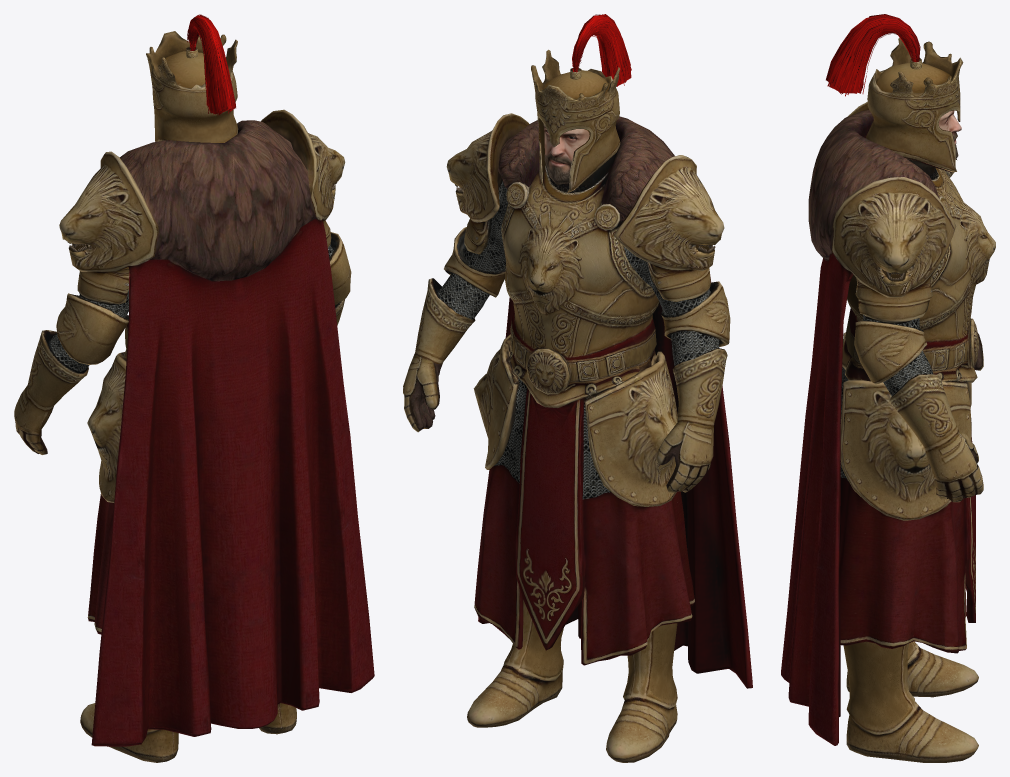
Rendered from king.fbx.
3 views of the same model, side by side, from view 1: azimuth 30°, elevation 25°; view 2: azimuth 150°, elevation 25°; view 3: azimuth 270°, elevation 25° (orthographic). The views are drawn at different scales.
Parts seen in each view (by area): view 1: Object_10, Object_9, Object_11, Object_12; view 2: Object_9, Object_10, Object_11, Object_12, Object_8; view 3: Object_9, Object_10, Object_11, Object_12, Object_8.
Part boxes in pixels (box(x1,y1,x2,y2)): Object_10: box(87, 120, 374, 746); Object_9: box(14, 109, 351, 762); Object_11: box(146, 31, 238, 142); Object_12: box(187, 14, 235, 115); Object_9: box(403, 113, 730, 762); Object_10: box(474, 116, 752, 688); Object_11: box(531, 49, 620, 192); Object_12: box(572, 14, 631, 86); Object_8: box(543, 124, 589, 184); Object_9: box(831, 102, 995, 762); Object_10: box(781, 110, 975, 745); Object_11: box(866, 38, 963, 172); Object_12: box(826, 14, 920, 96); Object_8: box(906, 110, 961, 160).
Bounding box in the file's own units: 90.49 × 200 × 54.99.
